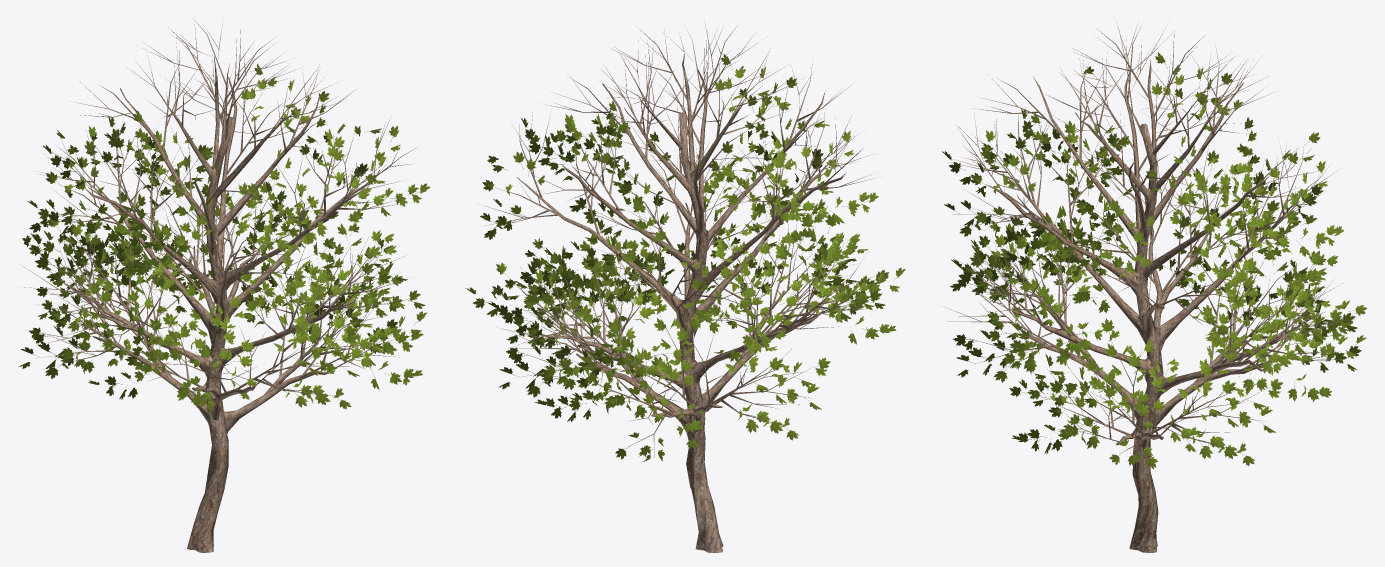
Rendered from maple-far.glb.
3 renders of one model, left to right at view 1: azimuth 30°, elevation 25°; view 2: azimuth 150°, elevation 25°; view 3: azimuth 270°, elevation 25°, orthographic. The views are drawn at different scales.
Visible parts, largest first — view 1: Tree_1, Tree_0; view 2: Tree_1, Tree_0; view 3: Tree_1, Tree_0.
Boxes of the visible parts, <box> form: Tree_1: <box>18,64,430,412</box>; Tree_0: <box>19,18,415,552</box>; Tree_1: <box>465,54,905,461</box>; Tree_0: <box>482,24,877,552</box>; Tree_1: <box>942,52,1367,469</box>; Tree_0: <box>947,25,1356,552</box>.
Size of the model in its own units: 4.32 by 5.57 by 4.2.
Materials: 2 (2 with a texture image).
